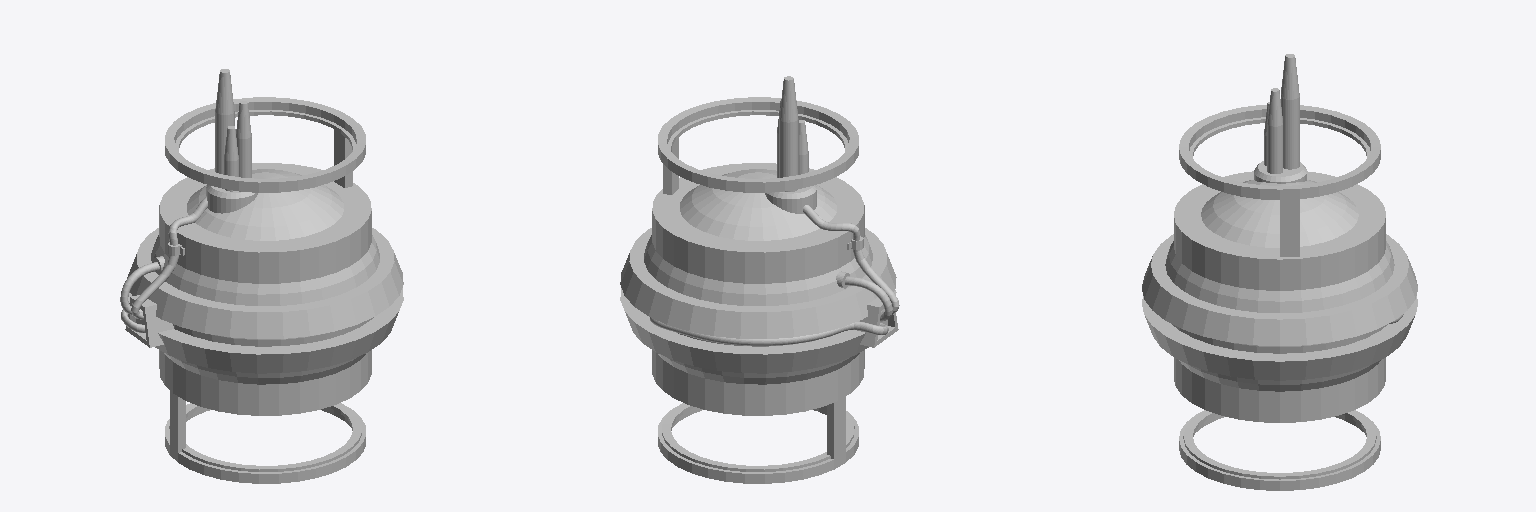
Rendered from ship_zero.obj.
The picture shows the model from 3 angles: view 1: azimuth 30°, elevation 25°; view 2: azimuth 150°, elevation 25°; view 3: azimuth 270°, elevation 25°; orthographic projection.
Parts seen in each view (by area): view 1: Cylinder.013; view 2: Cylinder.013; view 3: Cylinder.013.
Boxes of the visible parts, x1,y1,x2,y2 form: Cylinder.013: [120, 69, 403, 483]; Cylinder.013: [620, 76, 899, 483]; Cylinder.013: [1142, 54, 1417, 490].
Size of the model in its own units: 2.48 by 3.44 by 2.3.